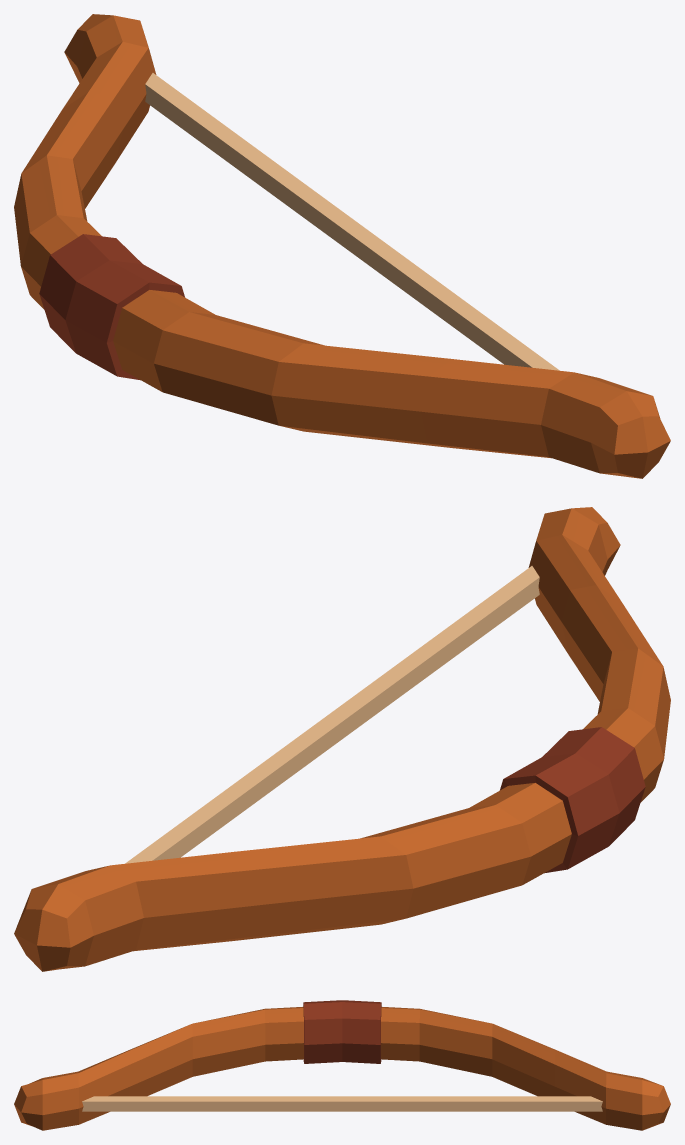
Rendered from Bow.fbx.
The picture shows the model from 3 angles, top to bottom: view 1: azimuth 30°, elevation 25°; view 2: azimuth 150°, elevation 25°; view 3: azimuth 270°, elevation 25°; orthographic projection. The views are drawn at different scales.
Visible parts, largest first — view 1: Bow; view 2: Bow; view 3: Bow.
Part boxes in pixels (x1=…): Bow: x1=14, y1=14, x2=670, y2=478; Bow: x1=14, y1=507, x2=670, y2=971; Bow: x1=14, y1=1000, x2=670, y2=1130.
Size of the model in its own units: 30.31 by 8.43 by 86.71.
